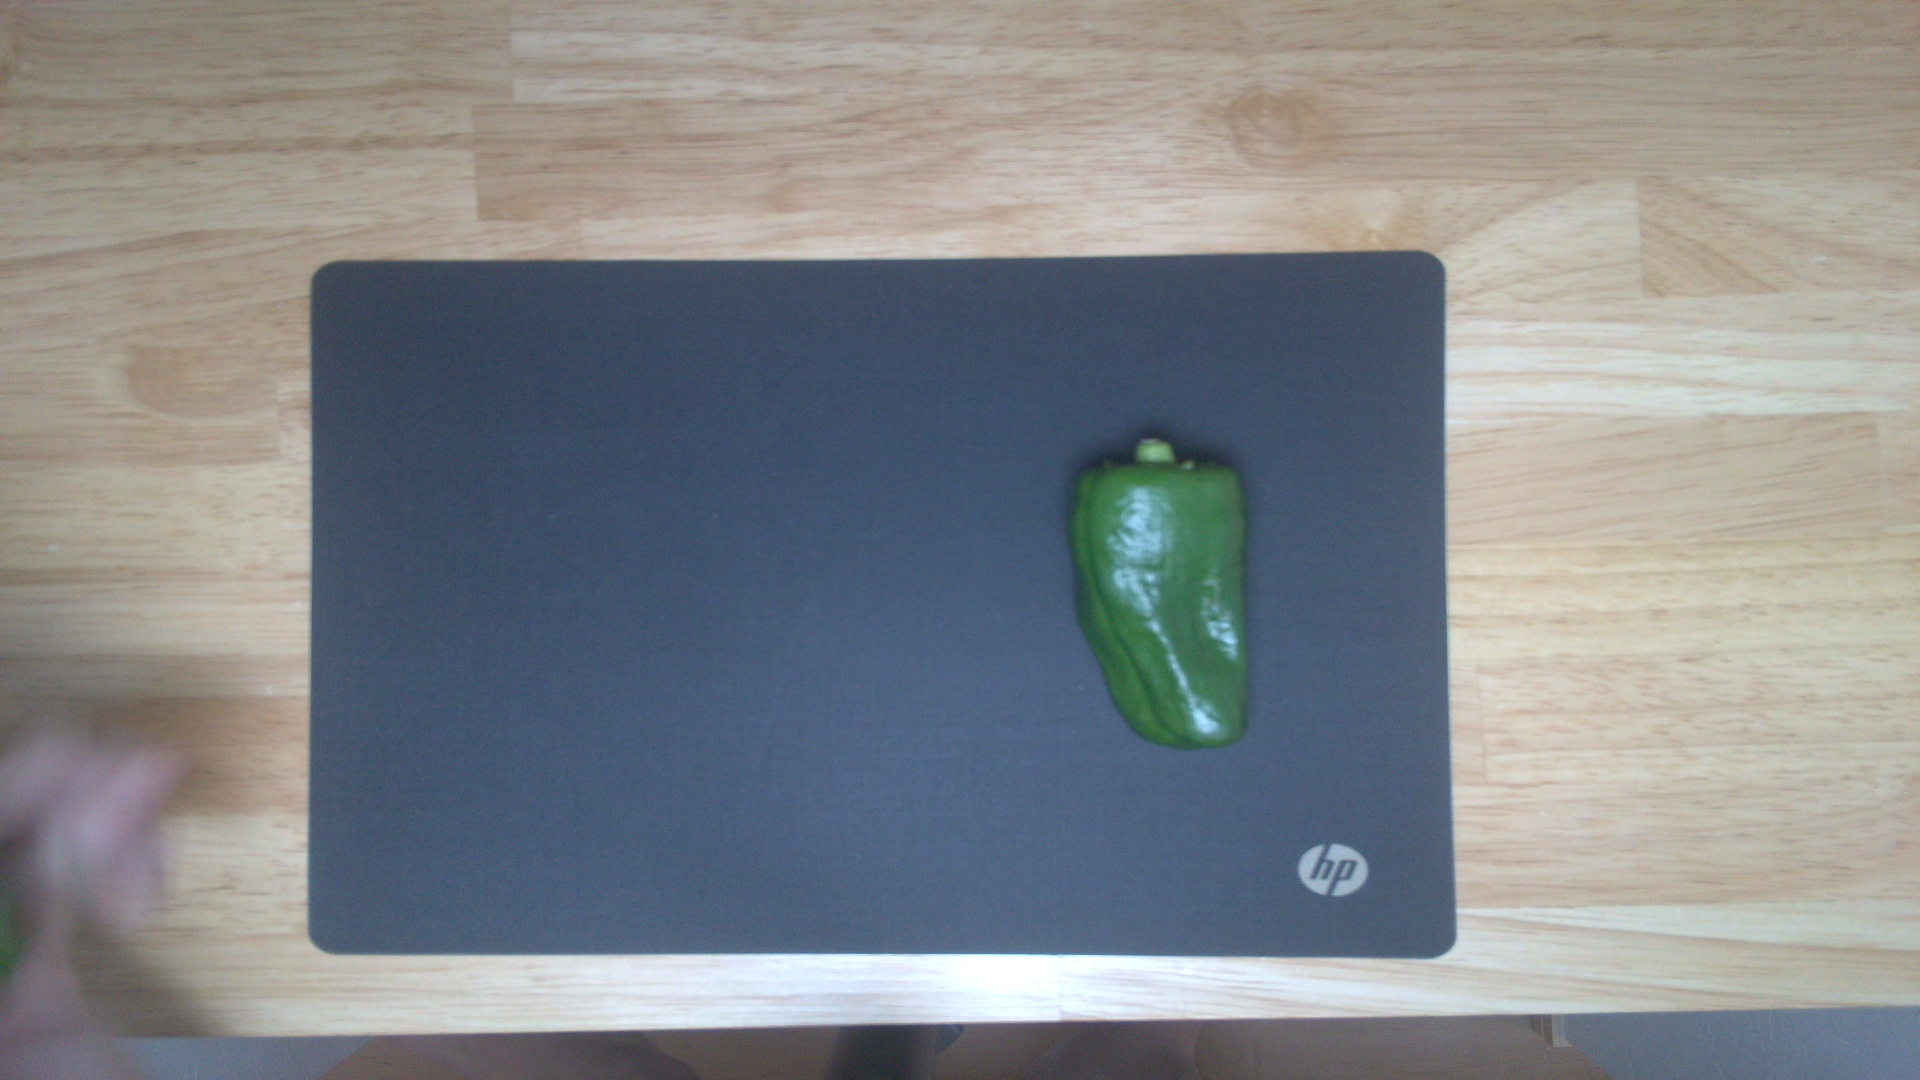Piman: (1067, 433, 1251, 754)
